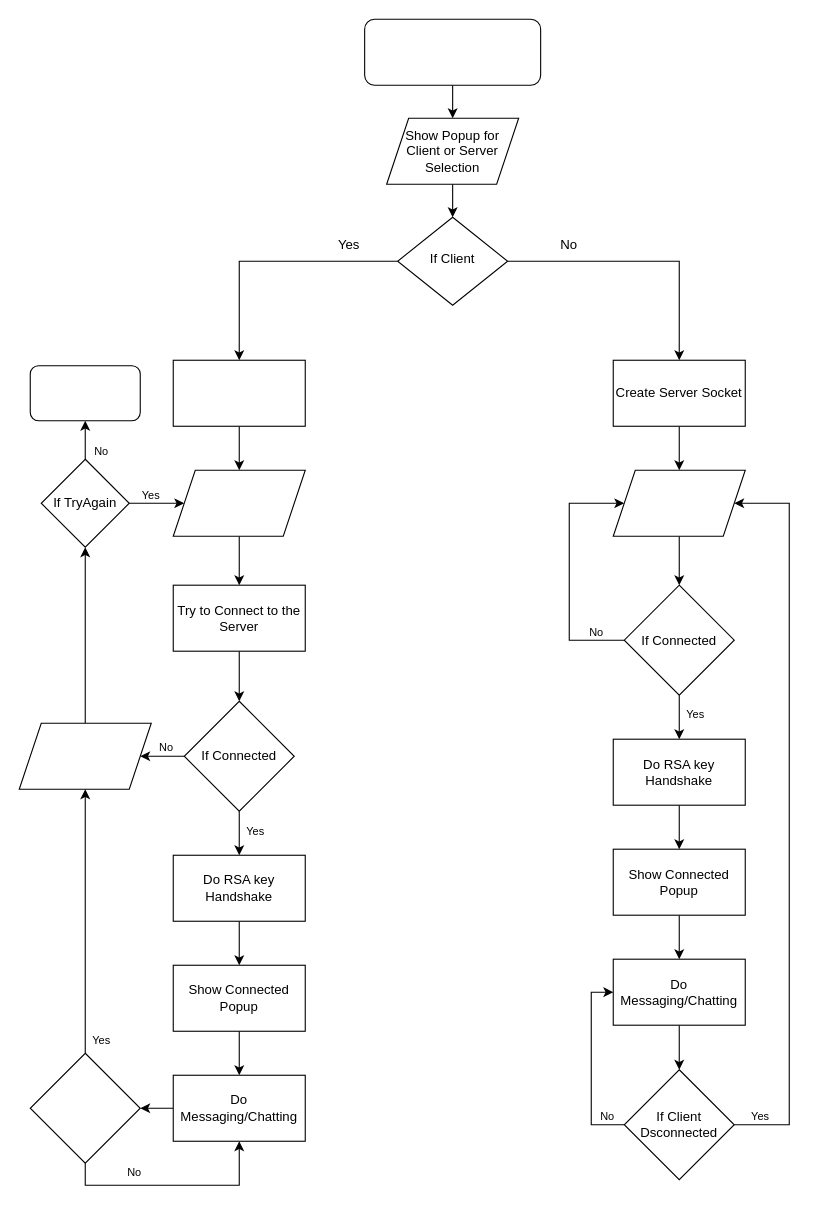
The diagram is 817 pixels wide and 1213 high, and some of its shapes have lost their labels. Here are the shapes that lost their labels. From the top down, the box of each, then its label:
(364, 18, 541, 85): Initialize GUI Window
(29, 365, 140, 421): Close the Application
(172, 359, 305, 426): Create Client Socket
(172, 469, 305, 536): Show popup for IP and Port of the server
(612, 469, 745, 536): Waiting for new Connection
(18, 722, 151, 789): Show Popup for Try Again
(29, 1052, 140, 1163): If Server Dsconnected
